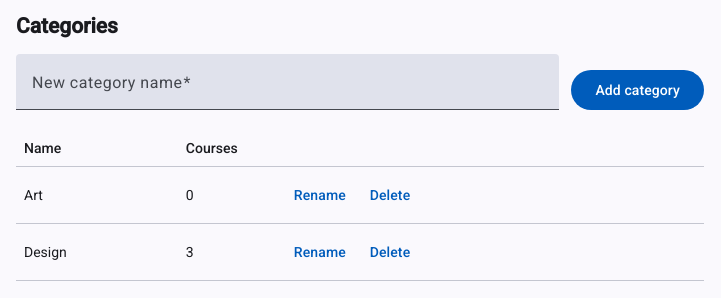
it: AdminCategoriesComponent › US-27: a name shorter than 2 characters is not sent
This screenshot has width=721, height=298.
In the field labelled "New category name": (288, 90) [32,78,544,102], type "A"
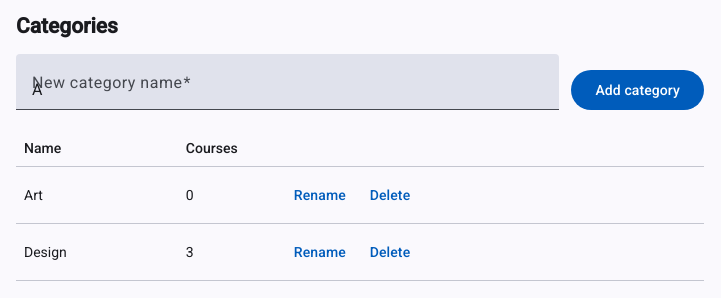
Submit the form with class "add", box [16,54,704,130]
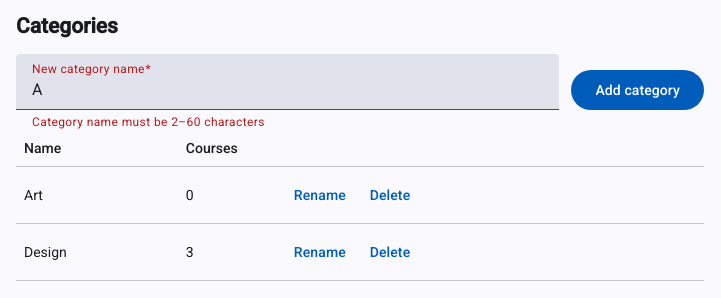
Expected: the text "Category name must be 2–60 characters" is shown, [32,115,265,129]
